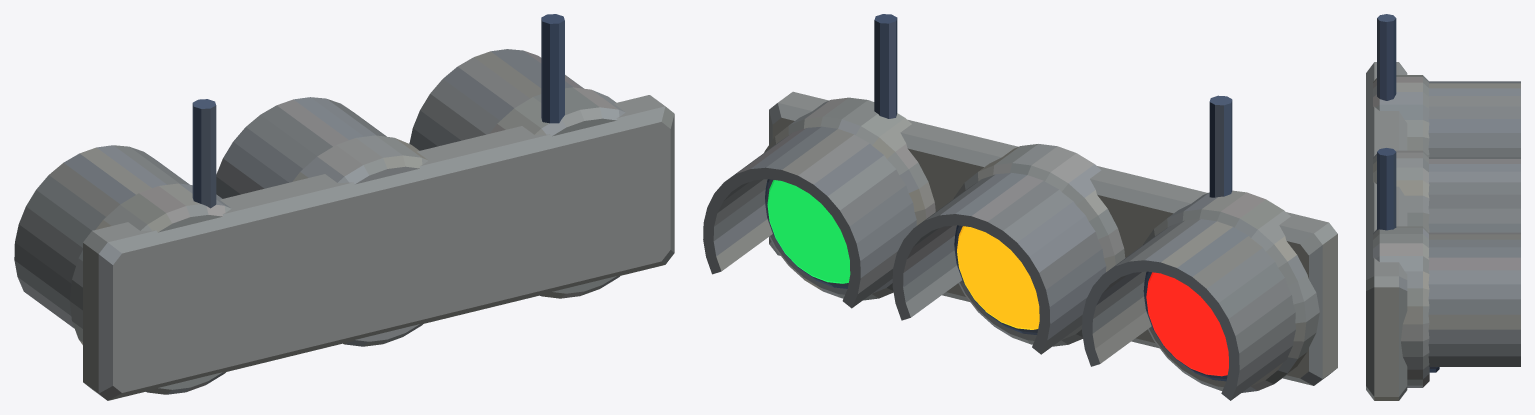
File: ART_Signal_Car.glb
3 renders of one model, left to right at view 1: azimuth 30°, elevation 25°; view 2: azimuth 150°, elevation 25°; view 3: azimuth 270°, elevation 25°, orthographic. The views are drawn at different scales.
Visible parts, largest first — view 1: ART_Signal_Car; view 2: ART_Signal_Car; view 3: ART_Signal_Car.
Boxes of the visible parts, <box> form: ART_Signal_Car: <box>14,14,674,400</box>; ART_Signal_Car: <box>703,14,1337,400</box>; ART_Signal_Car: <box>1366,14,1520,400</box>.
Bounding box in the file's own units: 1.52 × 0.705 × 0.45.
